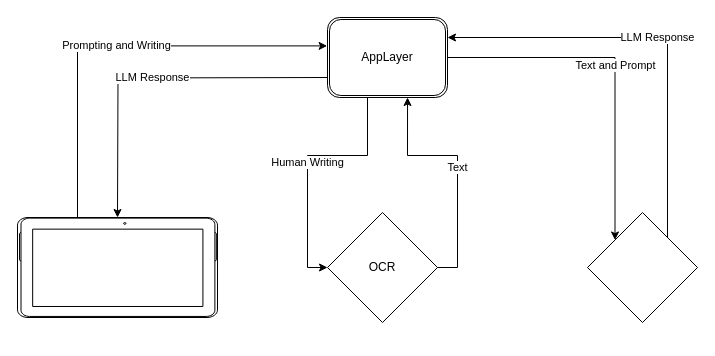
The diagram is 715 pixels wide and 356 high, and some of its shapes have lost their labels. The box of each missing label's shape, as (x1, y1, x2, y2) in pixels:
LLM: (586, 212, 698, 322)
Window UI: (16, 216, 218, 318)
